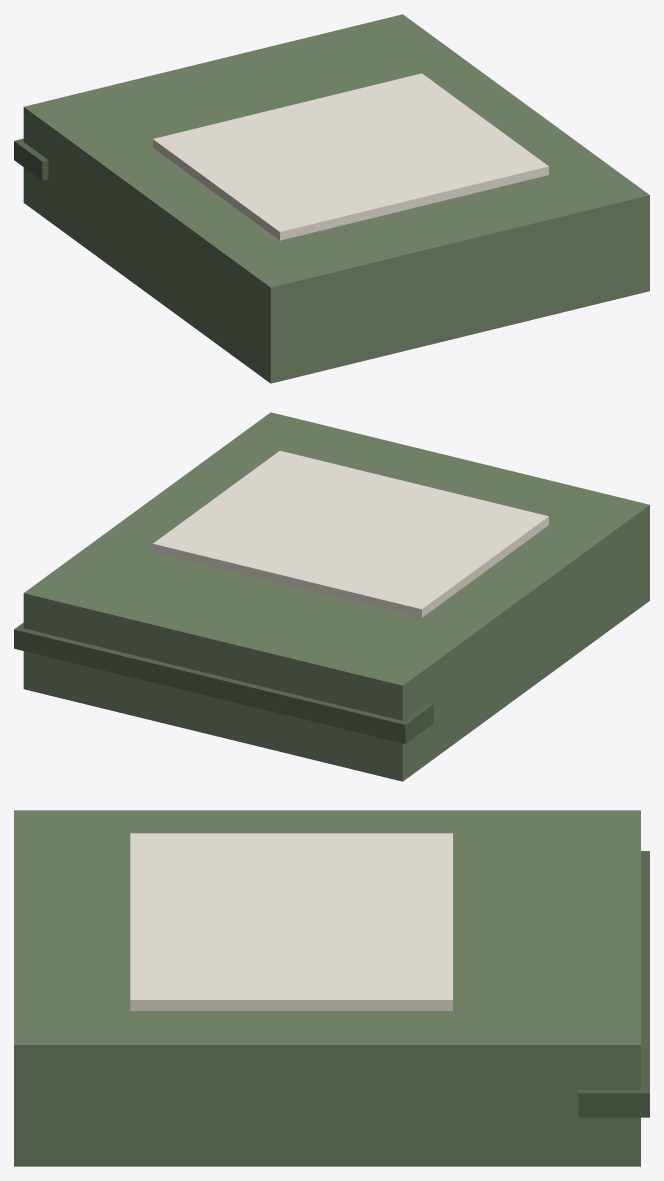
Rendered from SV_MP_SKU_02_v01.glb.
3 renders of one model, top to bottom at view 1: azimuth 30°, elevation 25°; view 2: azimuth 150°, elevation 25°; view 3: azimuth 270°, elevation 25°, orthographic. The views are drawn at different scales.
Visible parts, largest first — view 1: mproto_SV_MP_SKU_02_v01; view 2: mproto_SV_MP_SKU_02_v01; view 3: mproto_SV_MP_SKU_02_v01.
Boxes of the visible parts, x1,y1,x2,y2 form: mproto_SV_MP_SKU_02_v01: (14, 14, 649, 383); mproto_SV_MP_SKU_02_v01: (14, 412, 649, 781); mproto_SV_MP_SKU_02_v01: (14, 810, 649, 1166).
Size of the model in its own units: 0.064 by 0.0163 by 0.071.
